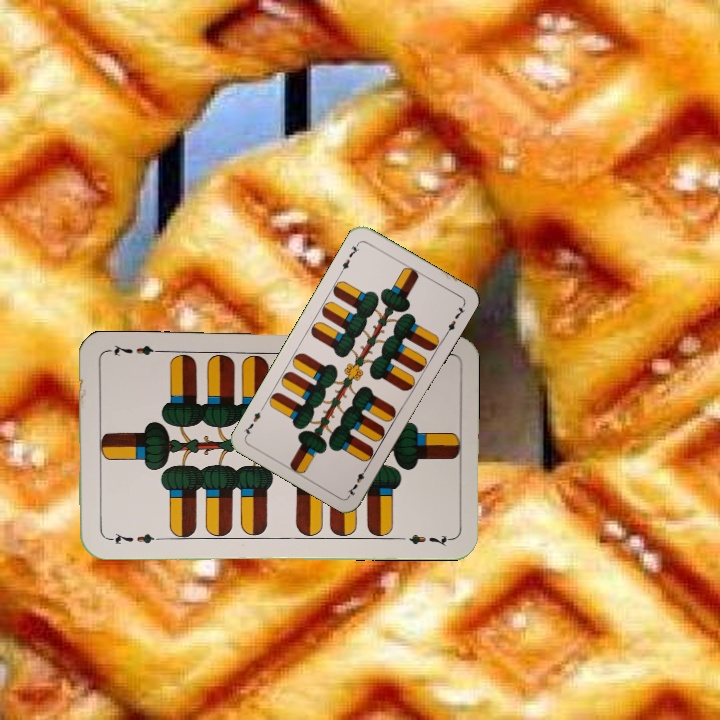E7: (103, 528, 162, 547), (344, 462, 371, 499), (336, 238, 362, 276)
